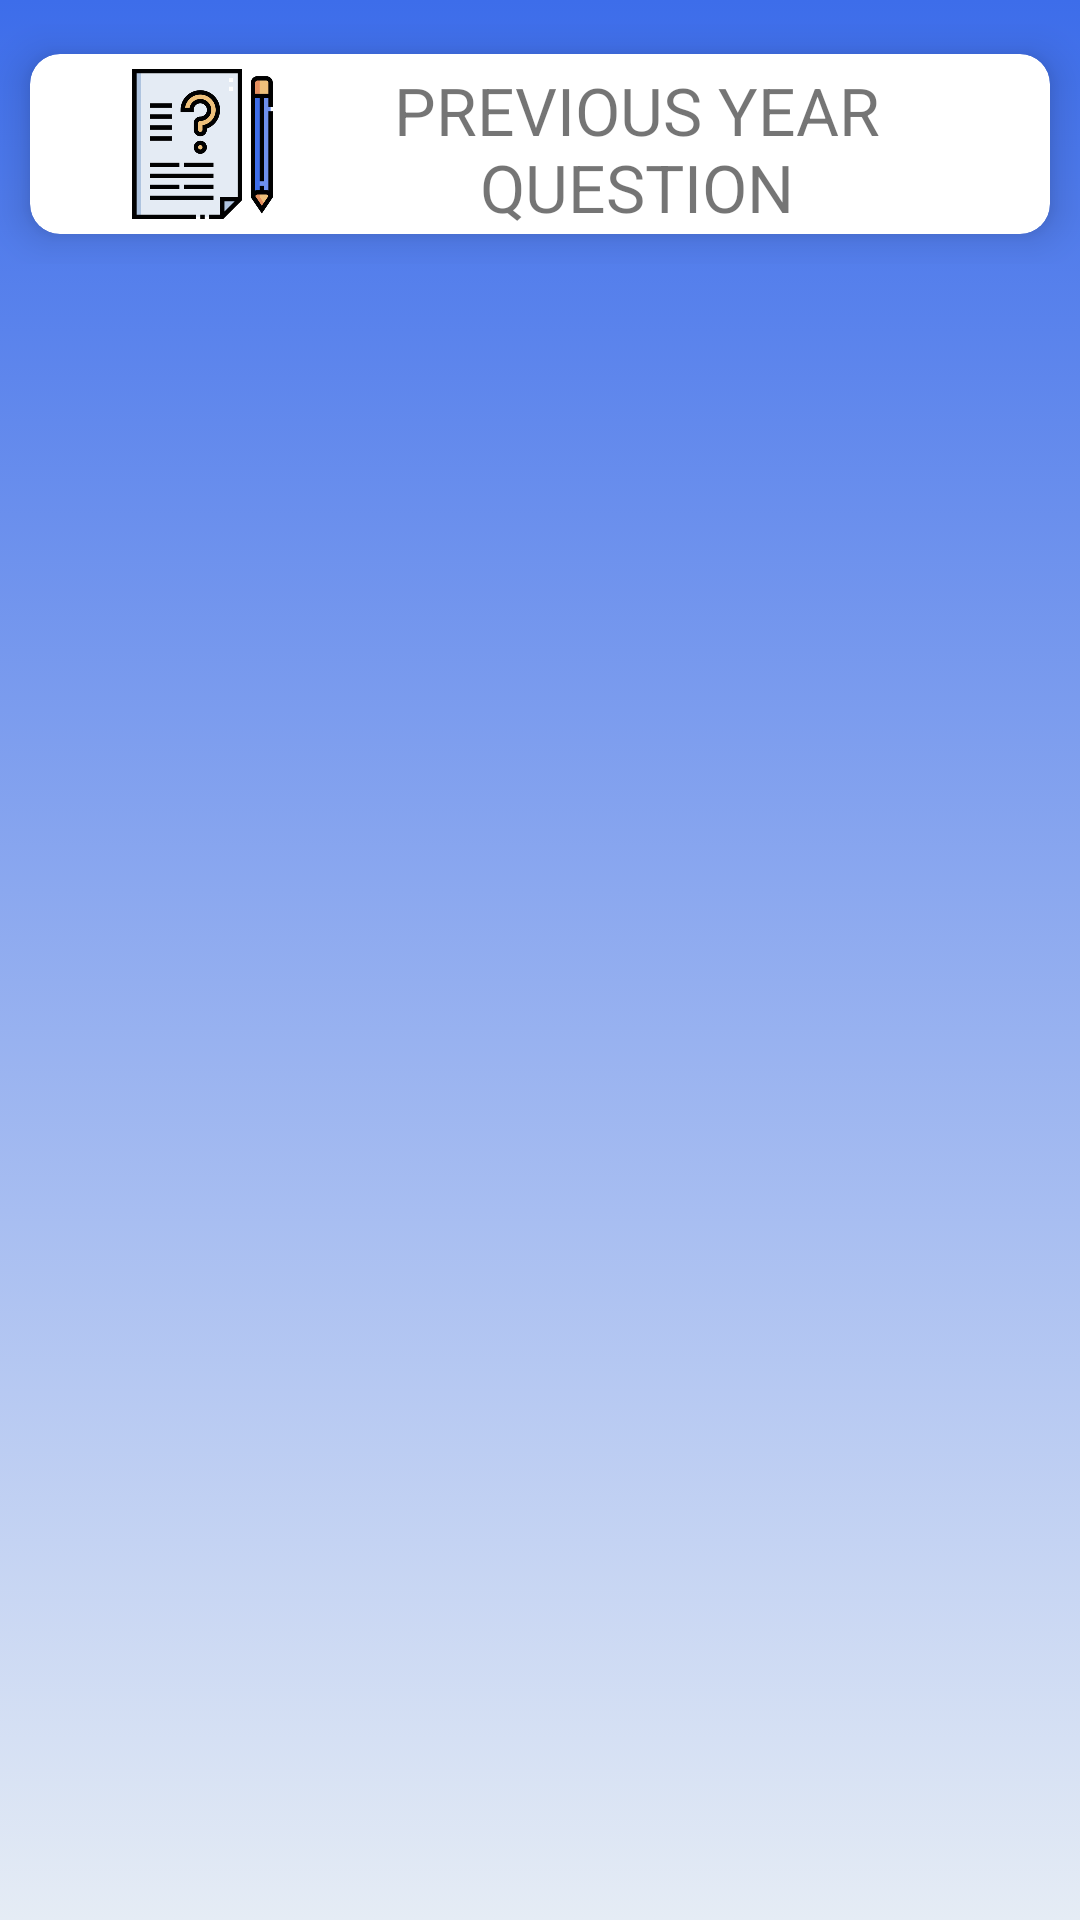

Named icons in this screenshot (1080px x 1920px) and their bounding boxes, (x1, y1, x2, y2):
pyq: (132, 69, 273, 219)
